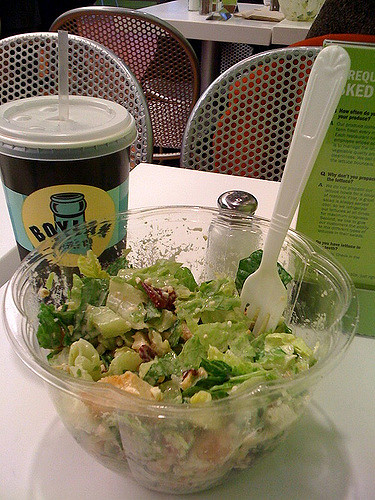chopped lettuce: (76, 286, 277, 365)
